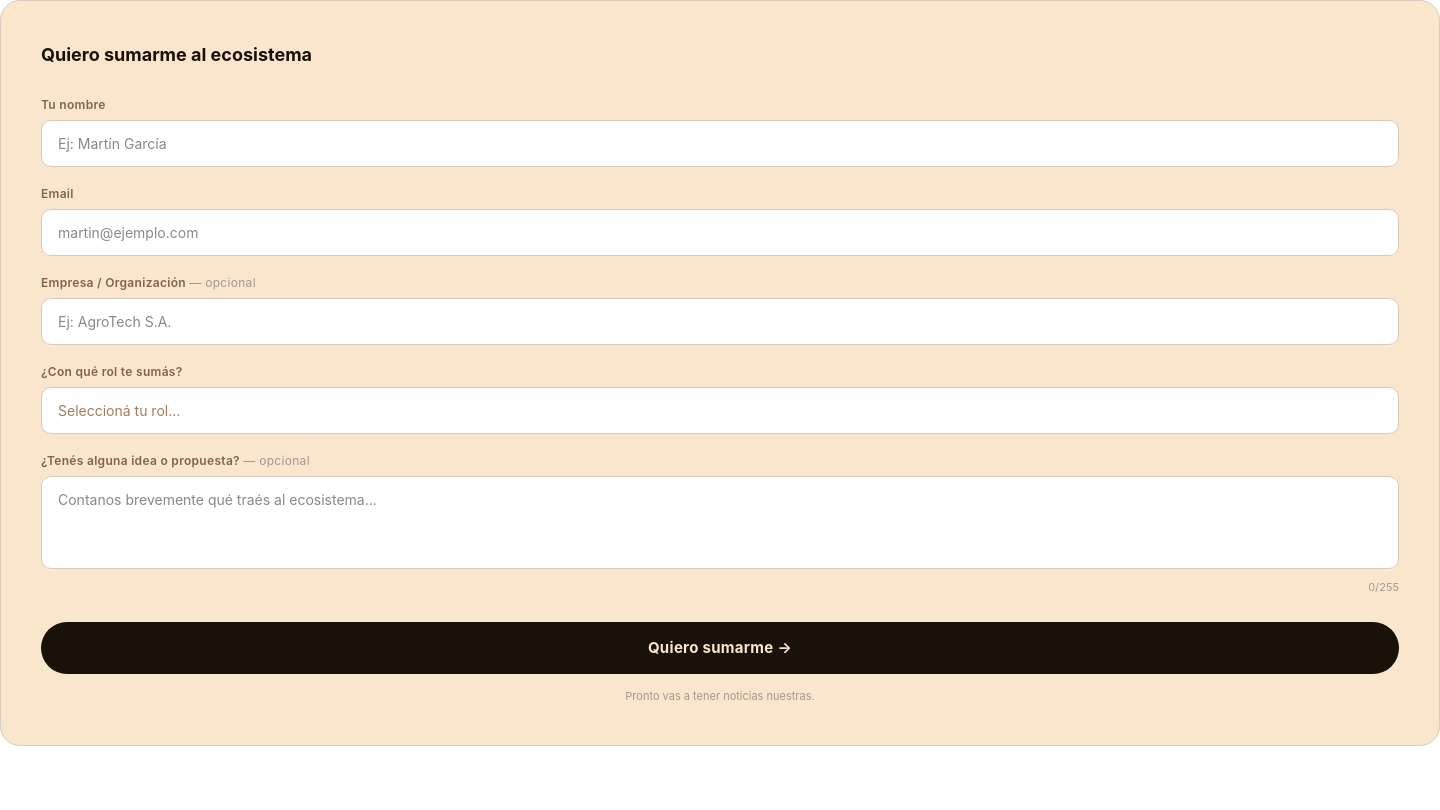
Scenario: SumateForm › muestra el contador de caracteres actualizado al escribir
Type "Hola" into the text box with placeholder "Contanos brevemente qué traés al ecosistema..." at [720, 523], box [41, 476, 1399, 569]
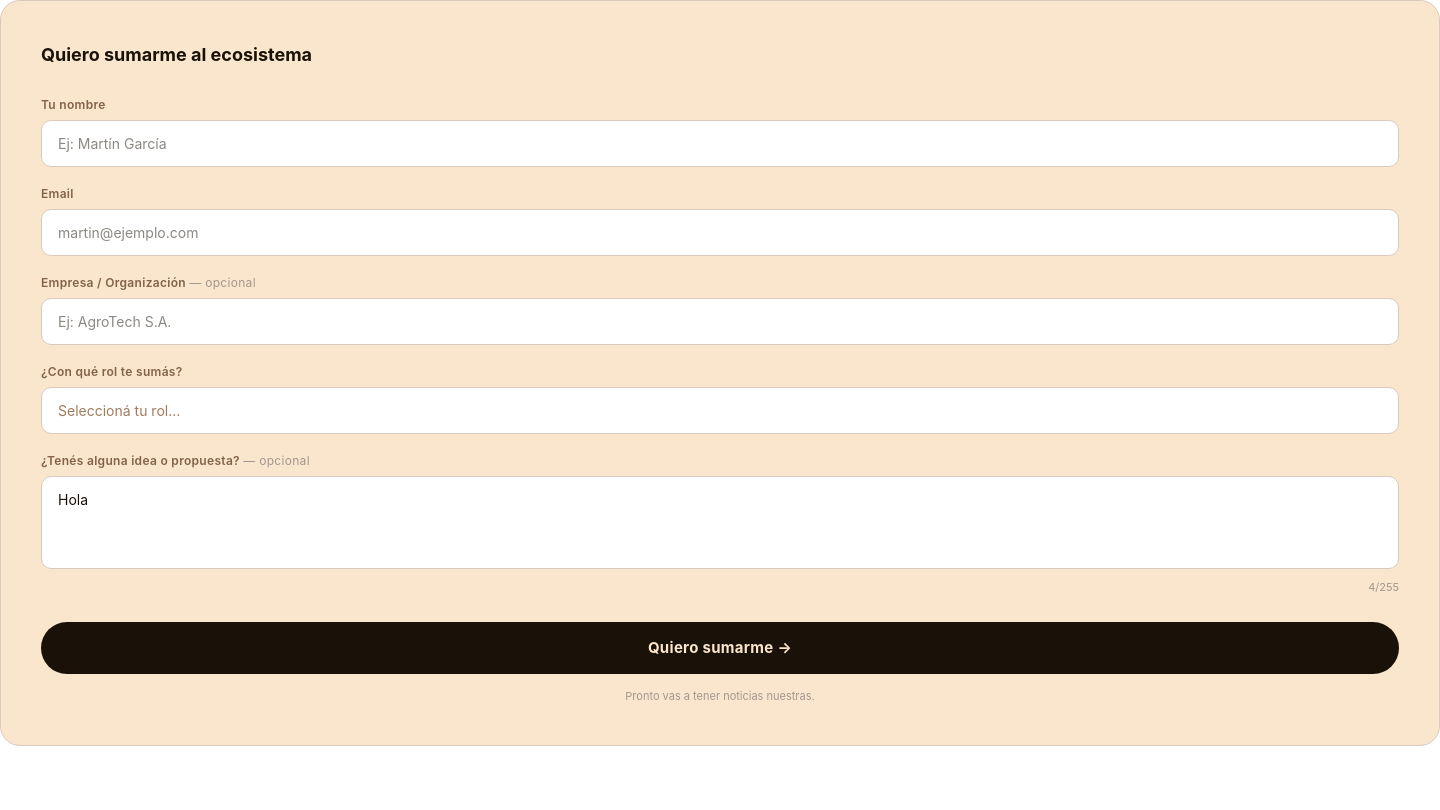
Result: the text "4/255" is shown at [1368, 580, 1399, 594]
